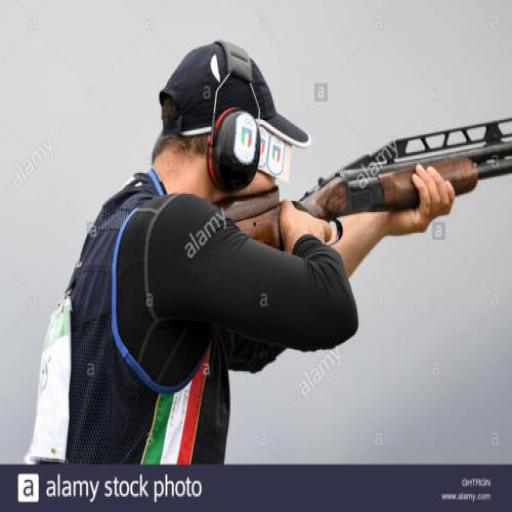shooting: (26, 38, 458, 466)
